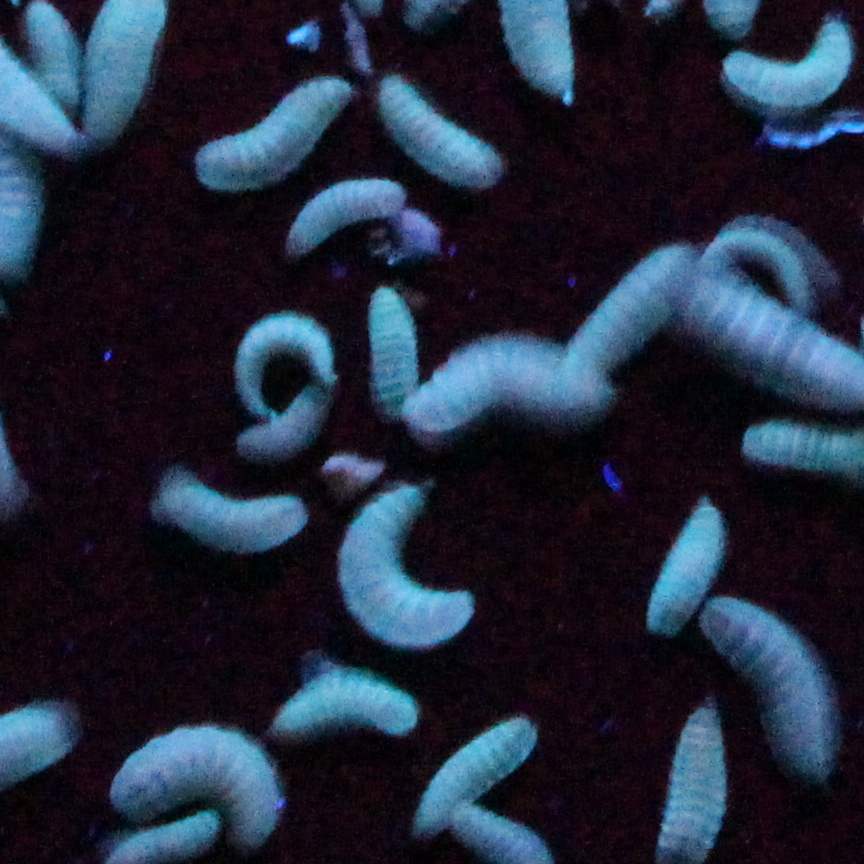larve: (409, 337, 614, 451), (340, 486, 478, 651), (189, 77, 354, 191), (580, 242, 696, 384), (146, 459, 308, 558), (268, 647, 417, 738), (376, 71, 500, 180), (426, 718, 533, 839), (725, 22, 854, 113), (645, 500, 727, 640), (231, 315, 338, 417), (296, 180, 402, 266), (371, 280, 418, 422), (240, 391, 338, 457), (322, 451, 387, 484)
